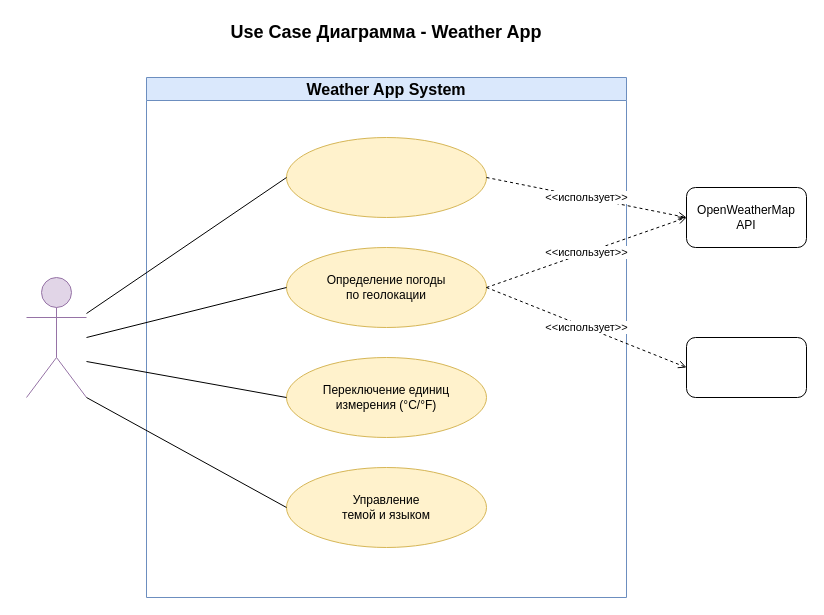
The diagram is 824 pixels wide and 615 high, and some of its shapes have lost their labels. The centre of each missing label's shape, as x and y in pixels:
"Браузер (Geolocation API)" goes at (x=746, y=367).
"Поиск погоды по названию города" goes at (x=386, y=177).
"Пользователь" goes at (x=56, y=337).
